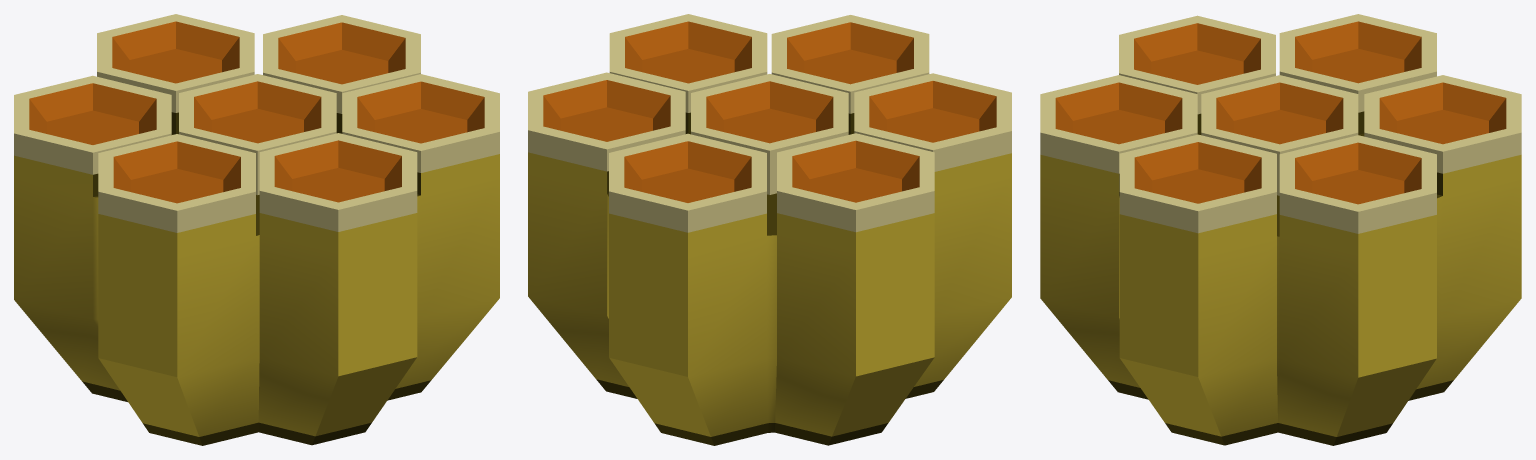
File: Honeycomb.fbx
3 views of the same model, side by side, from view 1: azimuth 30°, elevation 25°; view 2: azimuth 150°, elevation 25°; view 3: azimuth 270°, elevation 25° (orthographic).
Visible parts, largest first — view 1: pCylinder3; view 2: pCylinder3; view 3: pCylinder3.
Part boxes in pixels (x1,y1,x2,y2): pCylinder3: (14,14,499,445); pCylinder3: (528,14,1011,445); pCylinder3: (1040,14,1521,445).
Size of the model in its own units: 12.5 by 8.63 by 12.85.
